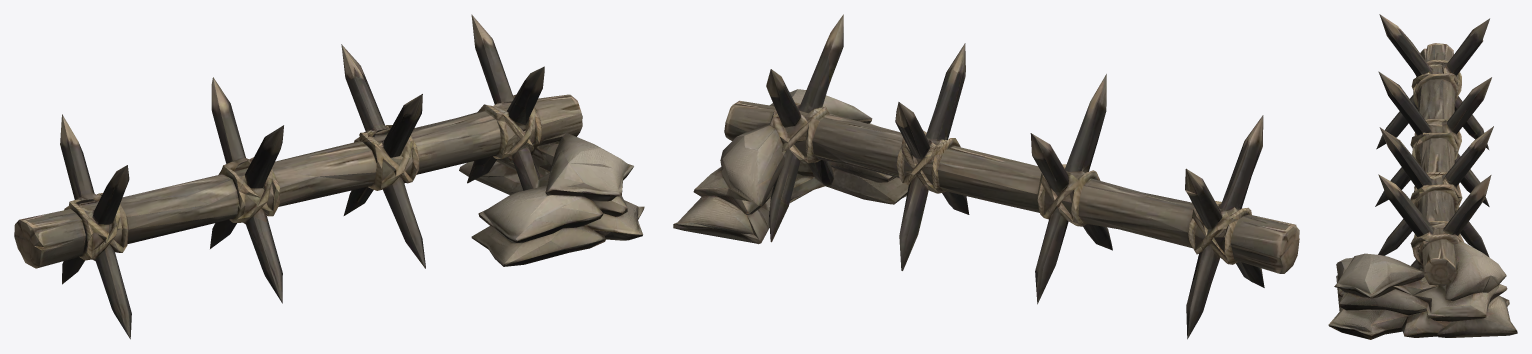
File: barricade.glb
3 views of the same model, side by side, from view 1: azimuth 30°, elevation 25°; view 2: azimuth 150°, elevation 25°; view 3: azimuth 270°, elevation 25° (orthographic). The views are drawn at different scales.
Bounding box in the file's own units: 1.9 × 0.5535 × 0.6914.
1 material, 1 textured.
